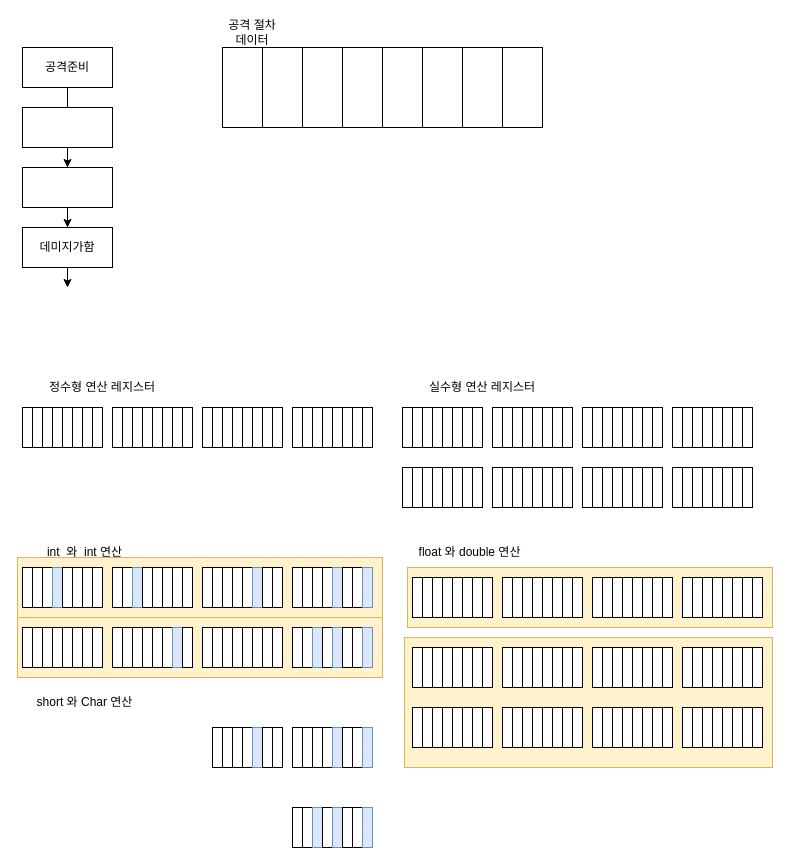
This 790x865 diagram has some shape labels left out. Each missing label, with the centre of its shape:
"공격" belongs at (67,187).
"공격시전" belongs at (67,127).
